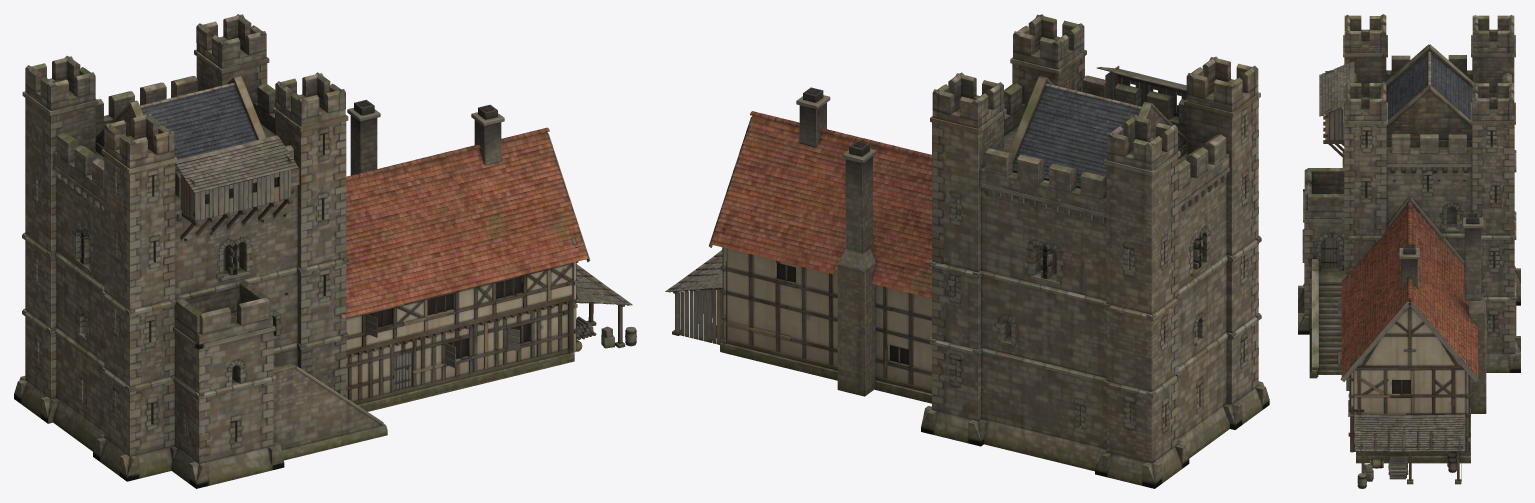
Rendered from town_hall.glb.
3 renders of one model, left to right at view 1: azimuth 30°, elevation 25°; view 2: azimuth 150°, elevation 25°; view 3: azimuth 270°, elevation 25°, orthographic. The views are drawn at different scales.
Parts seen in each view (by area): view 1: town_hall_LOD0; view 2: town_hall_LOD0; view 3: town_hall_LOD0.
Boxes of the visible parts, x1,y1,x2,y2 form: town_hall_LOD0: (14, 14, 636, 488); town_hall_LOD0: (665, 14, 1269, 488); town_hall_LOD0: (1298, 14, 1520, 488).
Size of what is drawn, in the model's own units: 30.62 by 18.71 by 13.94.
Materials: 1 (1 with a texture image).
